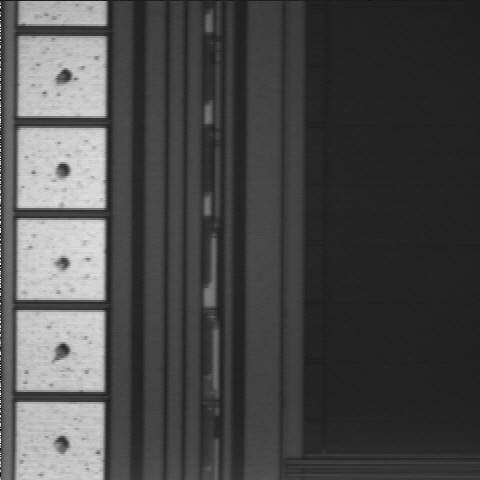pad: (18, 128, 105, 208), (18, 220, 105, 300), (18, 312, 104, 391), (19, 38, 105, 116)
